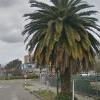Palm tree: (23, 0, 96, 92)
